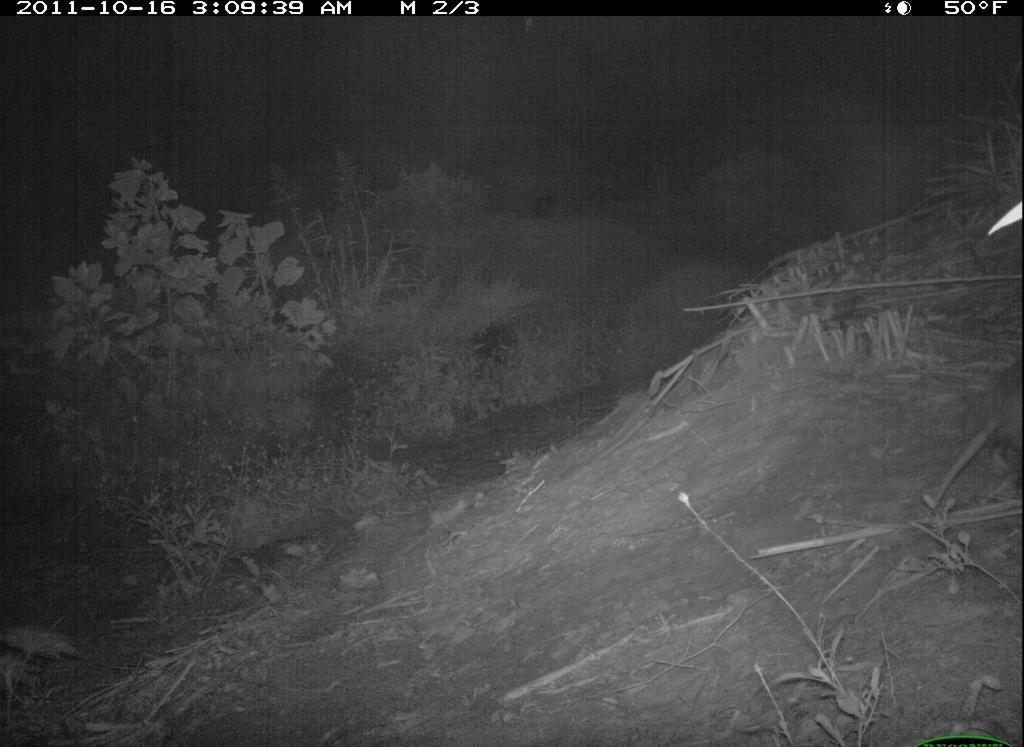opossum: (924, 349, 1024, 528)
